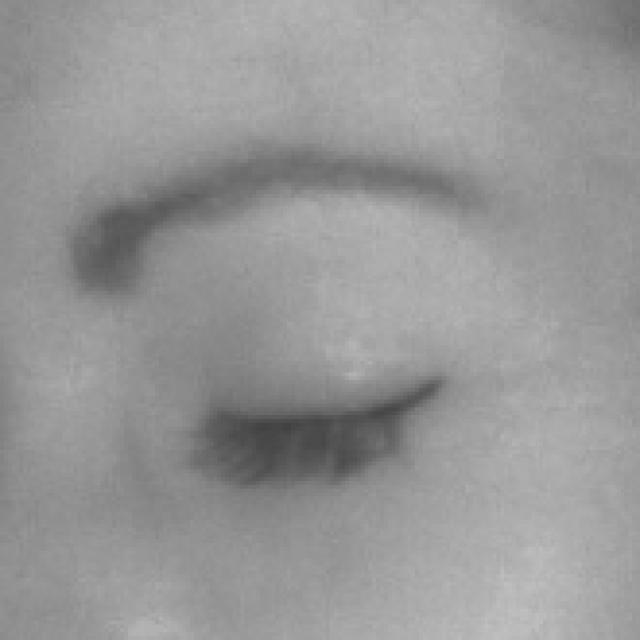Eyeclosed: (189, 315, 444, 550)
